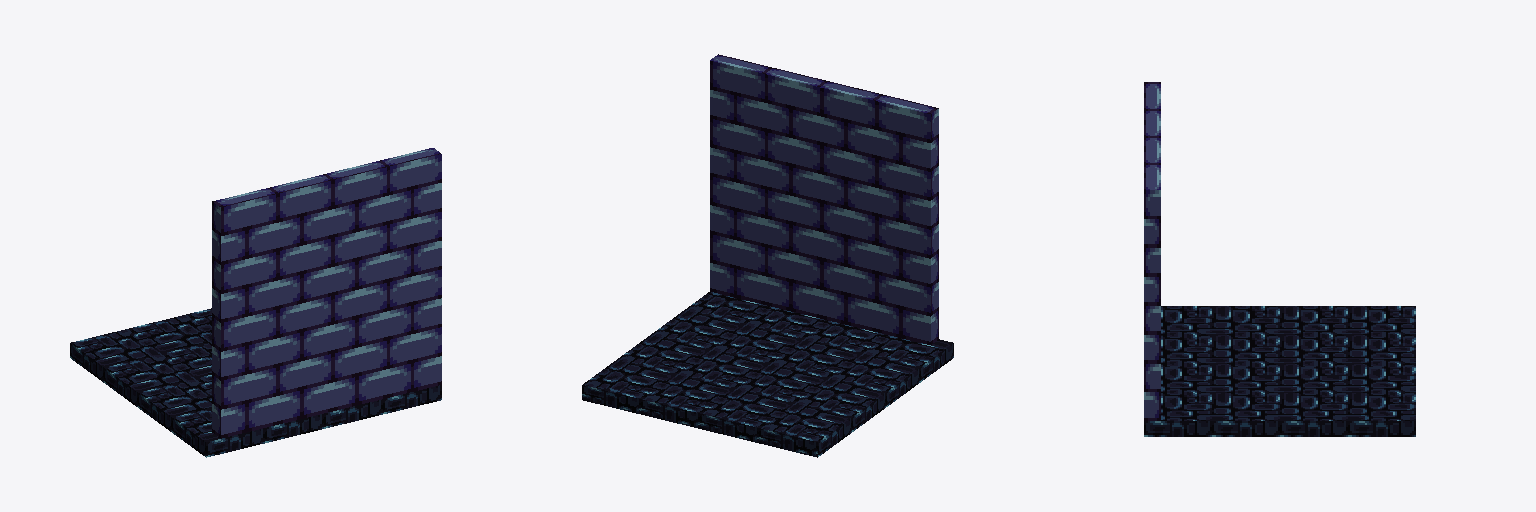
3 renders of one model, left to right at view 1: azimuth 30°, elevation 25°; view 2: azimuth 150°, elevation 25°; view 3: azimuth 270°, elevation 25°, orthographic.
Parts seen in each view (by area): view 1: wall, floor; view 2: wall, floor; view 3: floor, wall.
Part boxes in pixels (bbox=[...]): wall: bbox=[212, 148, 441, 438]; floor: bbox=[70, 308, 441, 457]; wall: bbox=[710, 54, 938, 344]; floor: bbox=[582, 292, 953, 457]; floor: bbox=[1144, 306, 1415, 436]; wall: bbox=[1144, 82, 1160, 420].
Size of the model in its own units: 16 by 16 by 16.
2 materials, 2 textured.